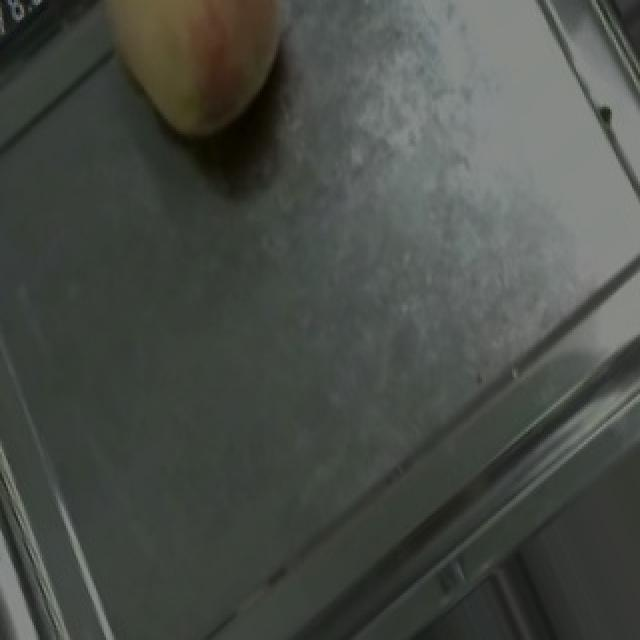Fruit: (66, 0, 326, 176)
